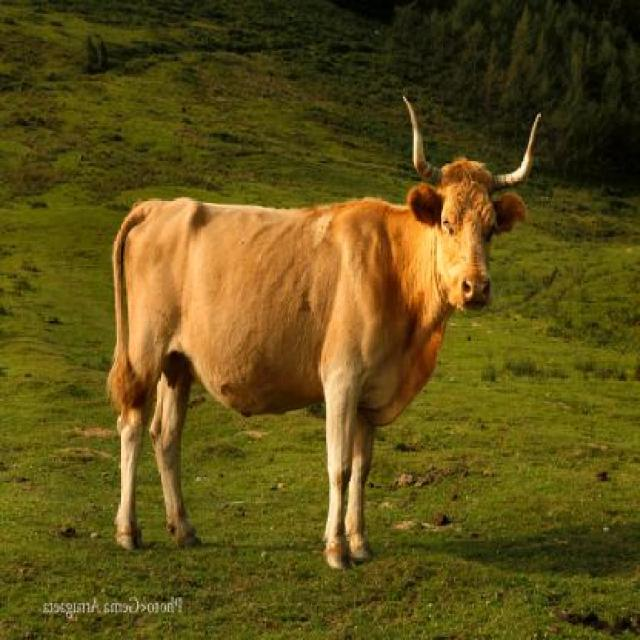Cow: (100, 106, 546, 572)
